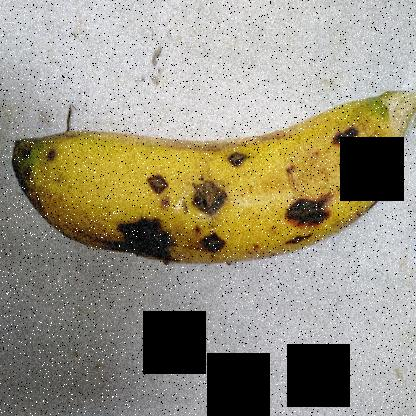rotten: (107, 212, 176, 268), (279, 189, 337, 250), (186, 167, 244, 217), (140, 156, 190, 212), (322, 112, 370, 170), (226, 133, 262, 178), (197, 226, 231, 262)
